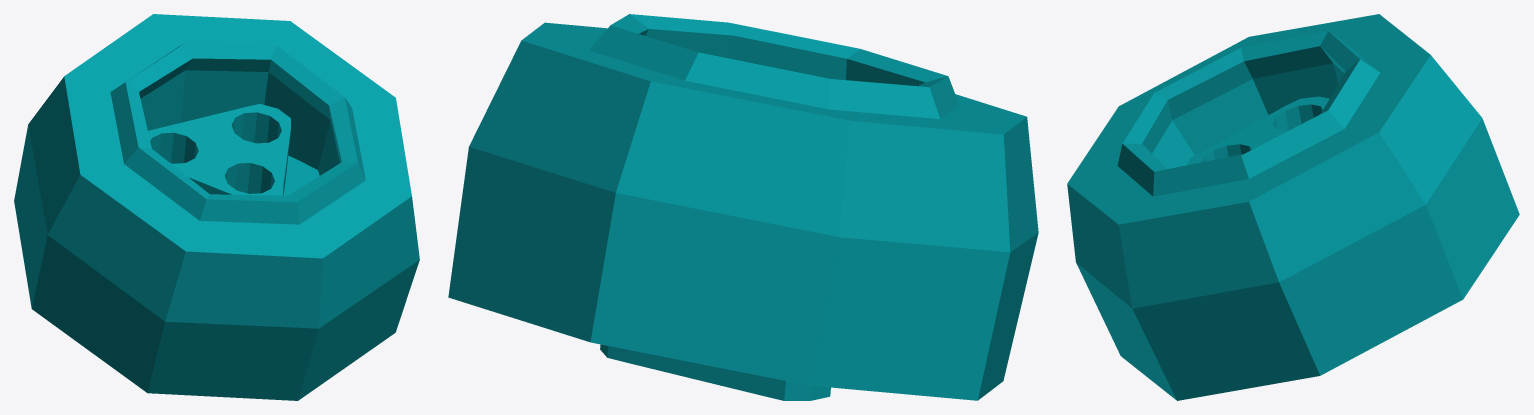
The model's file is Cryo Knob Thing.fbx.
3 views of the same model, side by side, from view 1: azimuth 30°, elevation 25°; view 2: azimuth 150°, elevation 25°; view 3: azimuth 270°, elevation 25° (orthographic). The views are drawn at different scales.
Visible parts, largest first — view 1: Cryo_Knob_Thing; view 2: Cryo_Knob_Thing; view 3: Cryo_Knob_Thing.
Boxes of the visible parts, <box> form: Cryo_Knob_Thing: <box>14,14,419,400</box>; Cryo_Knob_Thing: <box>448,14,1038,400</box>; Cryo_Knob_Thing: <box>1067,14,1519,400</box>.
Bounding box in the file's own units: 14.76 × 11.24 × 15.31.
